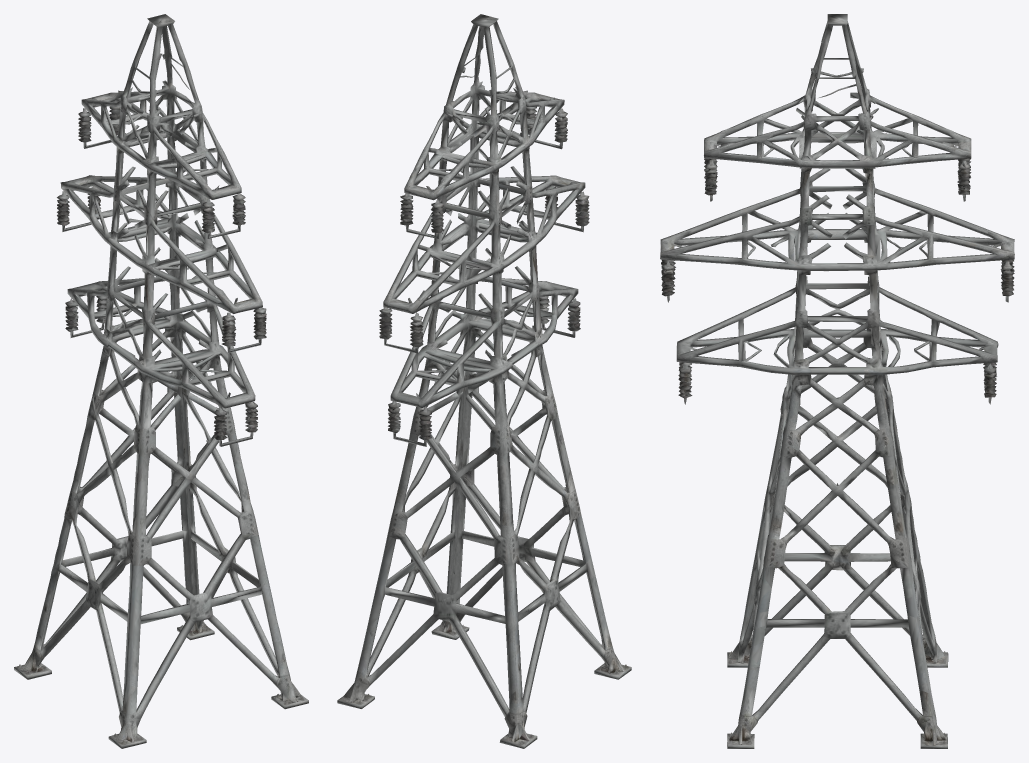
Rendered from pylon.glb.
3 renders of one model, left to right at view 1: azimuth 30°, elevation 25°; view 2: azimuth 150°, elevation 25°; view 3: azimuth 270°, elevation 25°, orthographic. The views are drawn at different scales.
Visible parts, largest first — view 1: Mesh_0; view 2: Mesh_0; view 3: Mesh_0.
Part boxes in pixels (bbox=[...]): Mesh_0: bbox=[14, 14, 308, 748]; Mesh_0: bbox=[337, 14, 631, 748]; Mesh_0: bbox=[660, 14, 1014, 748].
Bounding box in the file's own units: 3.23 × 11 × 5.17.
1 material, 1 textured.
